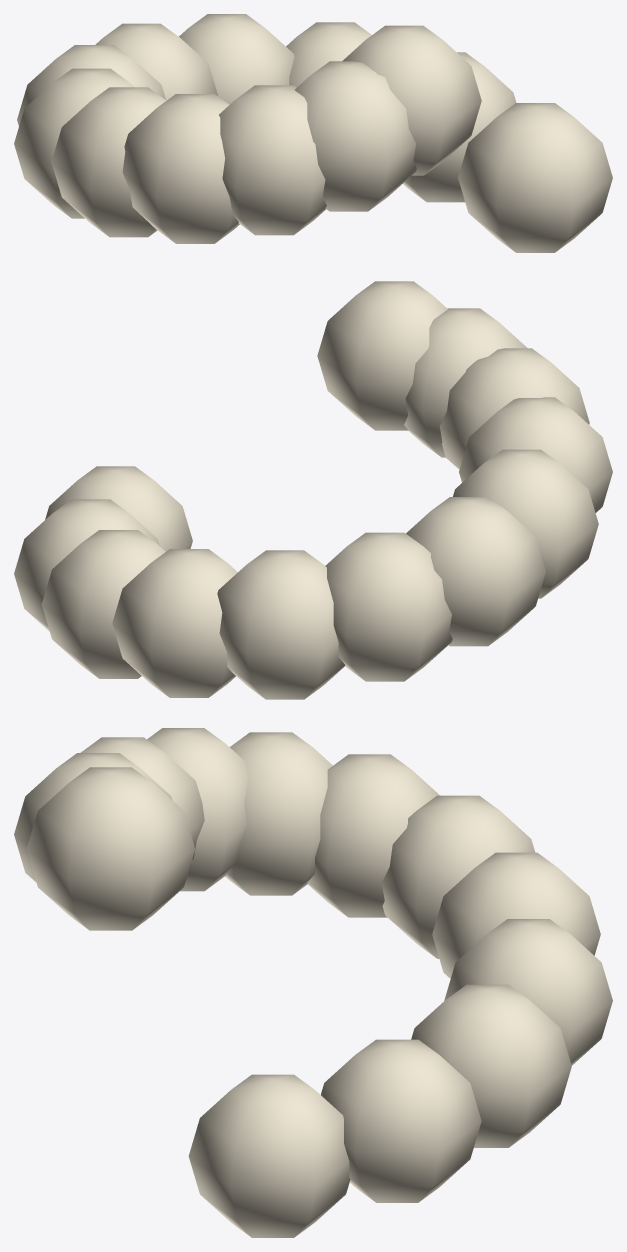
Rendered from bone_item_spine_curl.glb.
3 views of the same model, one above another, from view 1: azimuth 30°, elevation 25°; view 2: azimuth 150°, elevation 25°; view 3: azimuth 270°, elevation 25° (orthographic). The views are drawn at different scales.
Parts seen in each view (by area): view 1: GD_bone_item_spine_curl__m0; view 2: GD_bone_item_spine_curl__m0; view 3: GD_bone_item_spine_curl__m0.
Boxes of the visible parts, box(x1,y1,x2,y2) form: GD_bone_item_spine_curl__m0: box(14, 14, 612, 252); GD_bone_item_spine_curl__m0: box(14, 281, 612, 699); GD_bone_item_spine_curl__m0: box(14, 728, 612, 1237).
Size of the model in its own units: 0.1326 by 0.078 by 0.1207.
